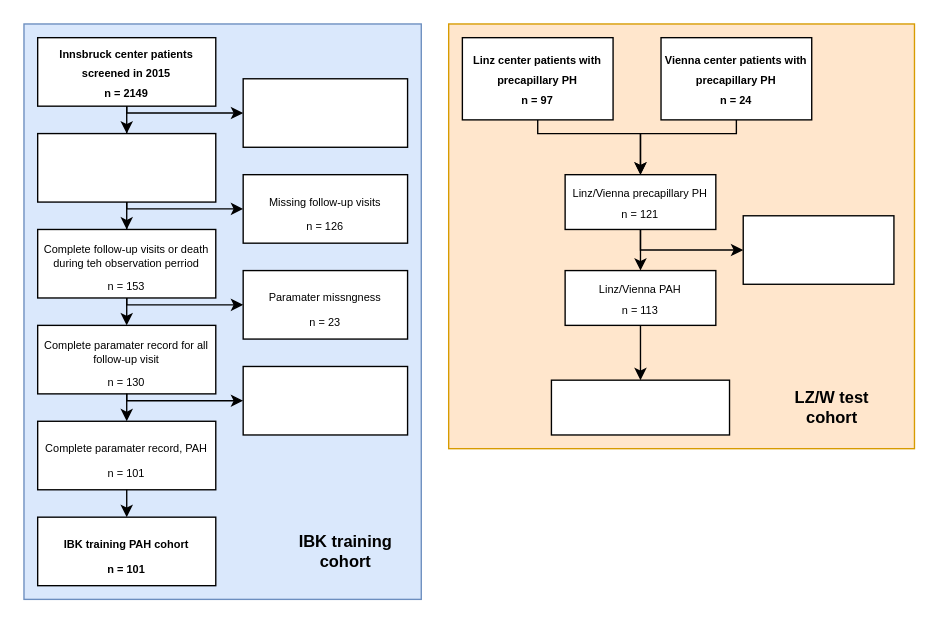
This 938x623 diagram has some shape labels left out. The centre of each missing label's shape, as x and y in pixels:
"CTEPH patient n = 29" goes at (x=325, y=400).
"CTEPH patient n = 8" goes at (x=818, y=249).
"LZ/W test PAH cohort n = 101" goes at (x=640, y=407).
"No precapillary PH or no RHC n = 1870" goes at (x=325, y=112).
"Patients with precapillary PH n = 279" goes at (x=126, y=167).
